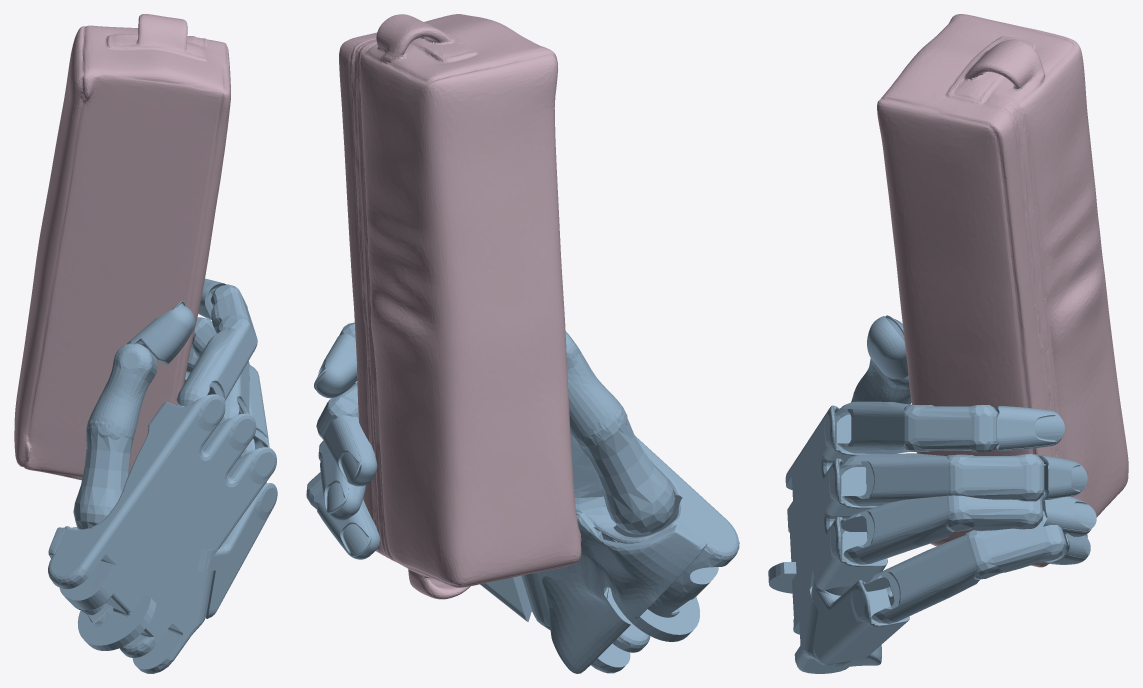
3 renders of one model, left to right at view 1: azimuth 30°, elevation 25°; view 2: azimuth 150°, elevation 25°; view 3: azimuth 270°, elevation 25°, orthographic. The views are drawn at different scales.
Visible parts, largest first — view 1: obj_mesh_grasp_10.obj, world; view 2: obj_mesh_grasp_10.obj, world; view 3: obj_mesh_grasp_10.obj, world.
Part boxes in pixels (x1,y1,x2,y2): obj_mesh_grasp_10.obj: (14, 14, 230, 480); world: (48, 278, 277, 673); obj_mesh_grasp_10.obj: (339, 14, 581, 599); world: (306, 322, 739, 673); obj_mesh_grasp_10.obj: (877, 14, 1128, 567); world: (768, 315, 1096, 673).
Bounding box in the file's own units: 0.1385 × 0.2862 × 0.1377.
